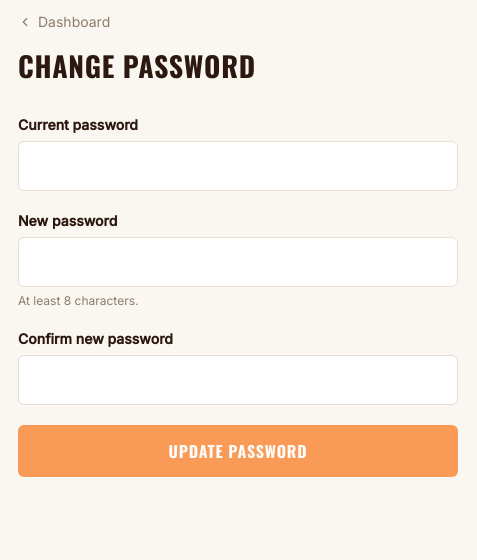
Test: ChangePasswordPage › shows error when passwords don't match
Type "oldpass" into the password field labelled "Current password" at (238, 166), box [18,141,458,191]
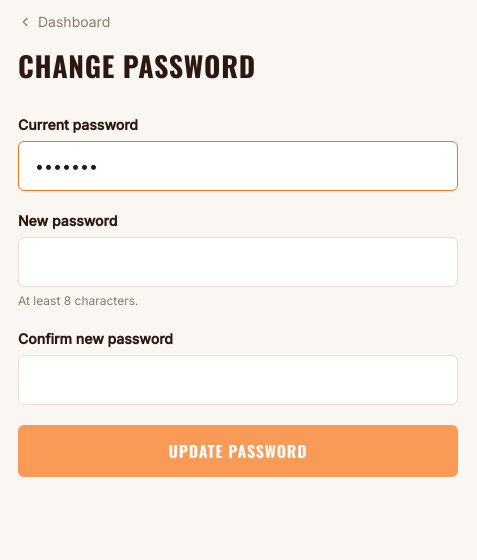
Type "newpass123" into the password field labelled "New password" at (238, 262), box [18,237,458,287]
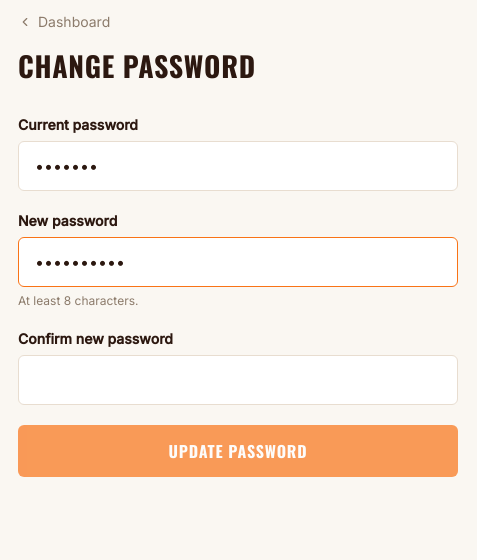
Type "different123" into the password field labelled "Confirm new password" at (238, 380), box [18,355,458,405]
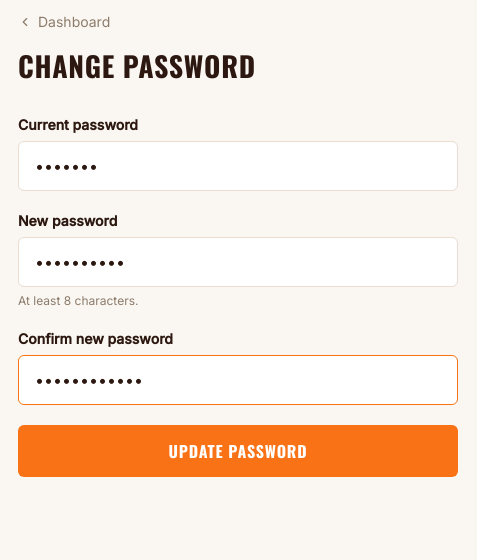
Click the button "Update password" at (238, 451), box [18,425,458,477]
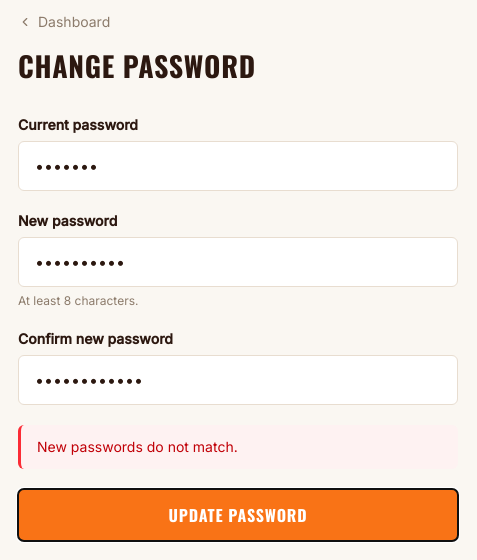
Result: the text "New passwords do not match." is shown at [37,438,238,455]
